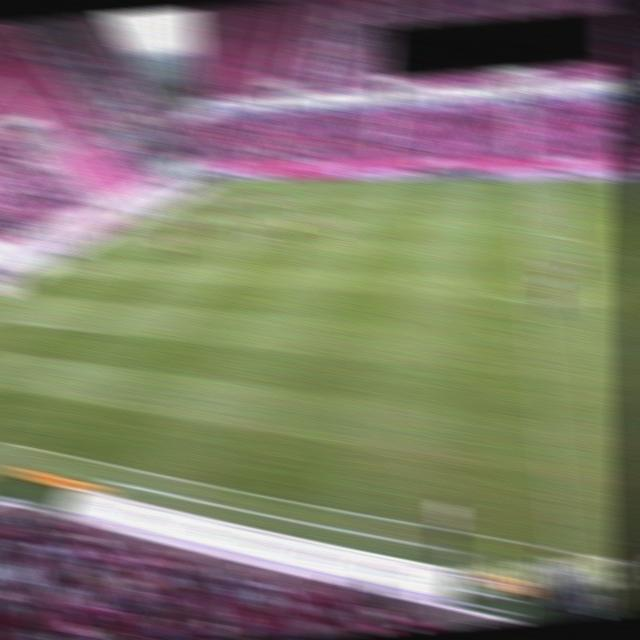bigarea_bottom_inner: (90, 324, 117, 338)
bigarea_top_inner: (260, 195, 286, 210)
bigarea_top_outter: (166, 196, 193, 210)
bottom_arc_area_intersection: (168, 263, 194, 278)
corner: (204, 174, 231, 188)
halfcircle_bottom: (521, 295, 547, 310)
halfcircle_top: (514, 226, 540, 242)
midline_bottom_intersection: (548, 541, 576, 560)
midline_top_intersection: (508, 175, 535, 189)
smallarea_bottom_inner: (75, 267, 101, 281)
smallarea_bottom_outter: (38, 265, 63, 280)
smallarea_top_inner: (158, 217, 184, 232)
smallarea_top_outter: (128, 216, 154, 231)
top_arc_area_intersection: (223, 221, 250, 236)
